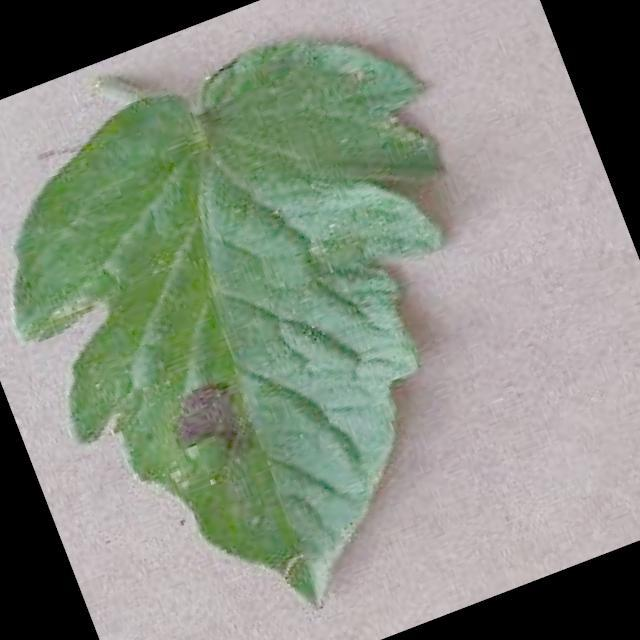Tomato Early blight leaf: (0, 5, 582, 640)
